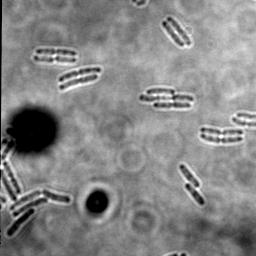Dividing: (166, 15, 193, 46), (58, 65, 102, 82), (58, 73, 99, 91), (162, 19, 186, 48), (138, 93, 195, 103), (36, 46, 79, 58), (199, 133, 244, 144), (198, 126, 244, 136), (32, 54, 77, 64), (153, 101, 192, 110)
Microcolony: (1, 135, 72, 238)
Rod: (178, 163, 201, 188), (184, 182, 206, 206), (145, 87, 175, 96)
